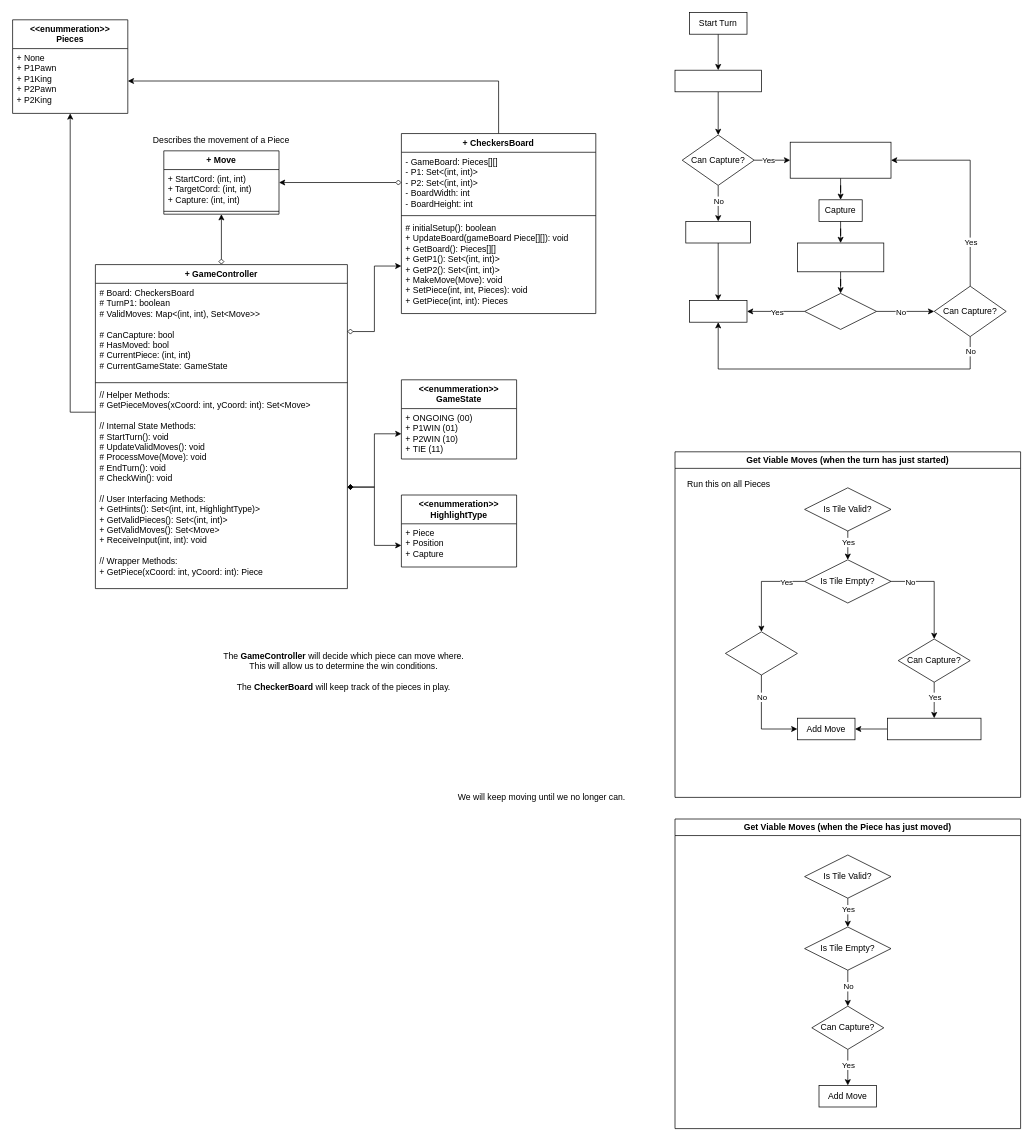
This 1033x1141 diagram has some shape labels left out. The shapes that lost their labels are listed below. From the top down, each one's centre as x and y in pixels, then its label:
At [717,80]: "Get all viable Moves".
At [840,159]: "Remove non-Capture Moves".
At [718,232]: "Make a Move".
At [840,257]: "Get all viable Moves of the Moved Piece".
At [718,311]: "End Turn".
At [840,311]: "Kinged?".
At [761,653]: "CanCapture?".
At [934,728]: "Enter Capturing Mode".
